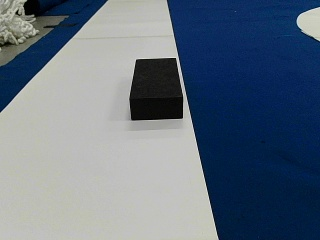block: (130, 57, 184, 120)
